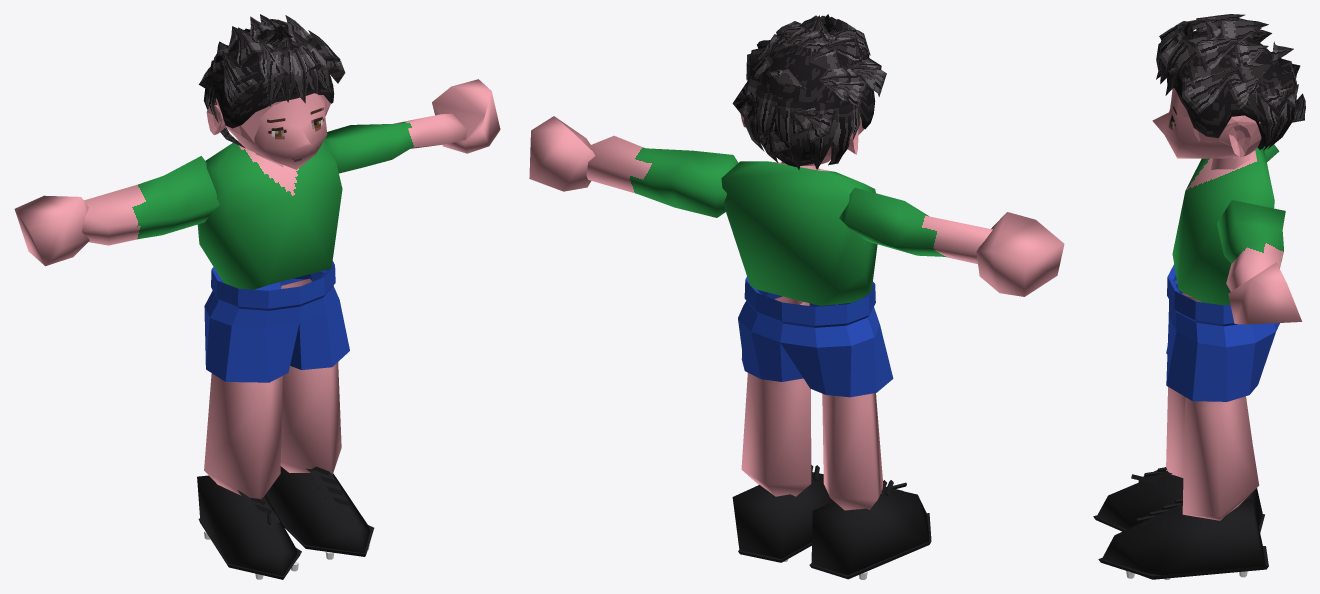
Rendered from 06-espetado-gel_preto.glb.
The picture shows the model from 3 angles, left to right: view 1: azimuth 30°, elevation 25°; view 2: azimuth 150°, elevation 25°; view 3: azimuth 270°, elevation 25°; orthographic projection. The views are drawn at different scales.
Visible parts, largest first — view 1: Camisa_Tronco, Bermuda, Cabelo, Perna.R, Braco.R, Perna.L, Chuteira.R, Chuteira.L, Braco.L, Cabeca, Mao.R, Mao.L (+2 smaller); view 2: Camisa_Tronco, Cabelo, Bermuda, Perna.L, Braco.L, Chuteira.R, Perna.R, Braco.R, Mao.R, Chuteira.L, Mao.L, Chuteira_Sola.R; view 3: Cabelo, Bermuda, Chuteira.L, Camisa_Tronco, Perna.L, Braco.L, Mao.L, Chuteira.R, Cabeca, Perna.R, Chuteira_Sola.L, Cranio (+4 smaller).
Boxes of the visible parts, box(x1,y1,x2,y2) form: Camisa_Tronco: box(197, 140, 342, 289); Bermuda: box(204, 261, 349, 382); Cabelo: box(199, 14, 345, 148); Perna.R: box(204, 373, 282, 503); Braco.R: box(82, 156, 219, 245); Perna.L: box(280, 278, 341, 474); Chuteira.R: box(197, 475, 299, 575); Chuteira.L: box(265, 466, 369, 553); Braco.L: box(324, 113, 467, 173); Cabeca: box(231, 93, 327, 169); Mao.R: box(14, 195, 89, 266); Mao.L: box(432, 79, 500, 153); Camisa_Tronco: box(721, 161, 877, 305); Cabelo: box(732, 14, 886, 169); Bermuda: box(738, 277, 893, 397); Perna.L: box(741, 296, 811, 496); Braco.L: box(586, 135, 738, 217); Chuteira.R: box(811, 487, 929, 574); Perna.R: box(822, 393, 883, 510); Braco.R: box(839, 187, 992, 263); Mao.R: box(976, 212, 1064, 296); Chuteira.L: box(732, 472, 833, 558); Mao.L: box(529, 116, 595, 191); Chuteira_Sola.R: box(809, 513, 931, 579); Cabelo: box(1156, 14, 1305, 150); Bermuda: box(1166, 264, 1279, 401); Chuteira.L: box(1102, 499, 1266, 579); Camisa_Tronco: box(1172, 148, 1274, 305); Perna.L: box(1182, 396, 1259, 520); Braco.L: box(1217, 200, 1285, 291); Mao.L: box(1228, 262, 1302, 324); Chuteira.R: box(1097, 470, 1262, 529); Cabeca: box(1152, 88, 1244, 158); Perna.R: box(1166, 292, 1252, 477); Chuteira_Sola.L: box(1098, 546, 1268, 579); Cranio: box(1192, 115, 1261, 158).
Bounding box in the file's own units: 0.4523 × 0.4575 × 0.1645.
Materials: 3 (3 with a texture image).
